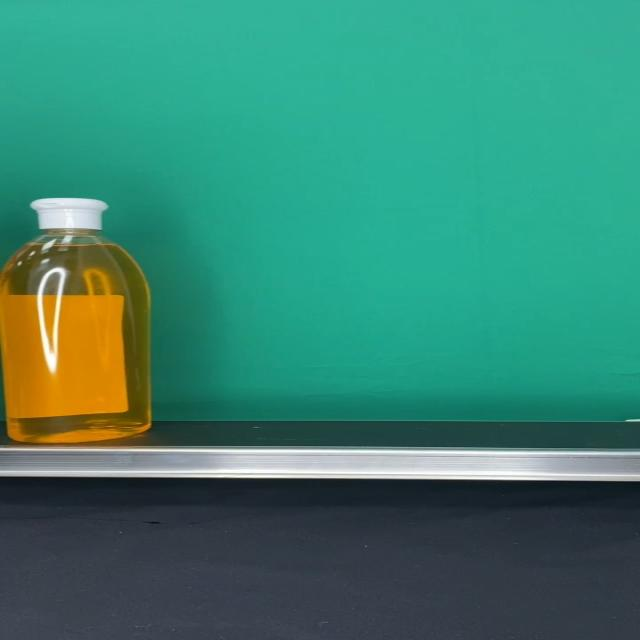Bottle: (0, 197, 152, 443)
Cap: (30, 198, 109, 230)
